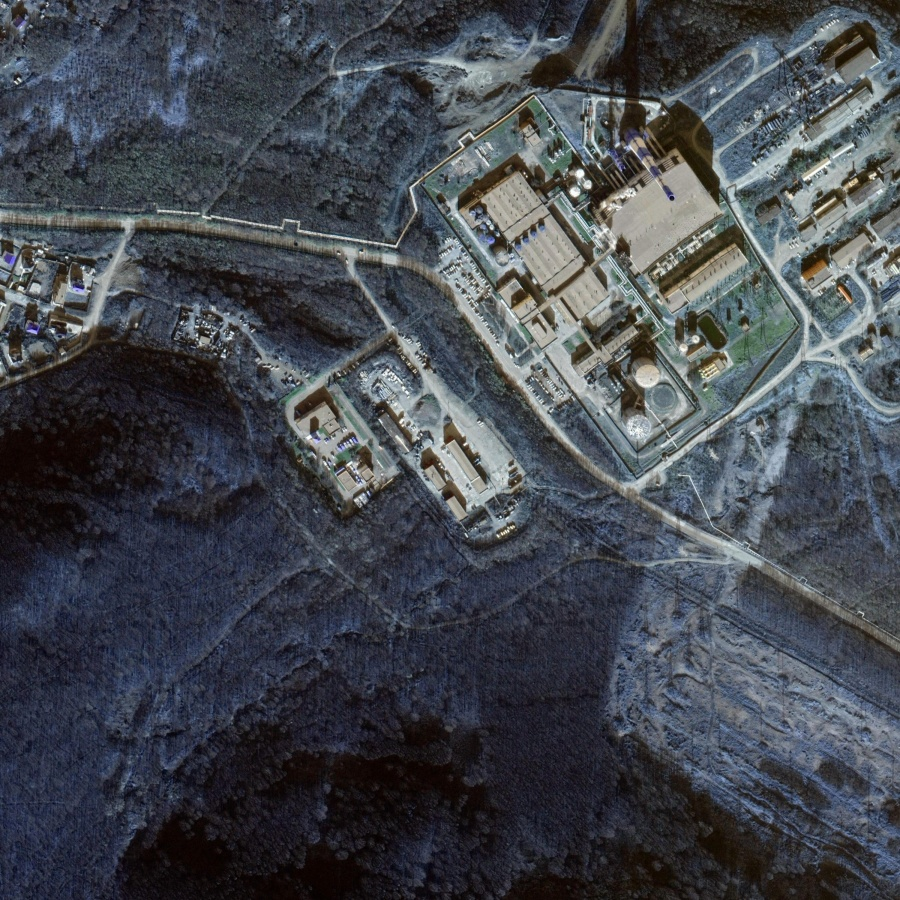PowerPlant: (456, 80, 771, 444)
